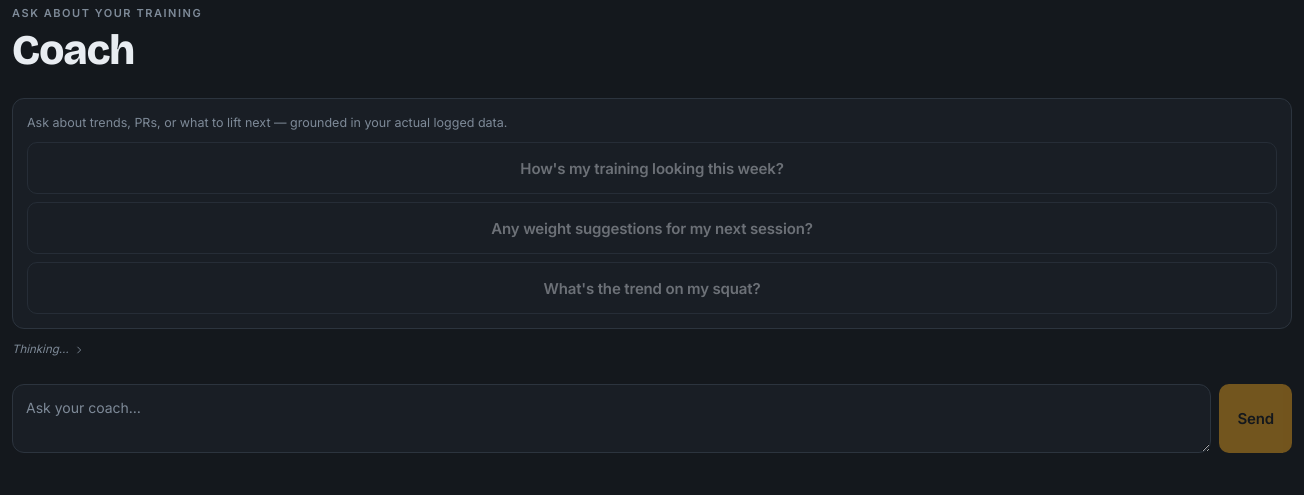
Test: CoachTab — generating blob › reveals thinking content when the disclosure is tapped
Click the button "Thinking…". click: (48, 350)
box: [12,339,84,360]
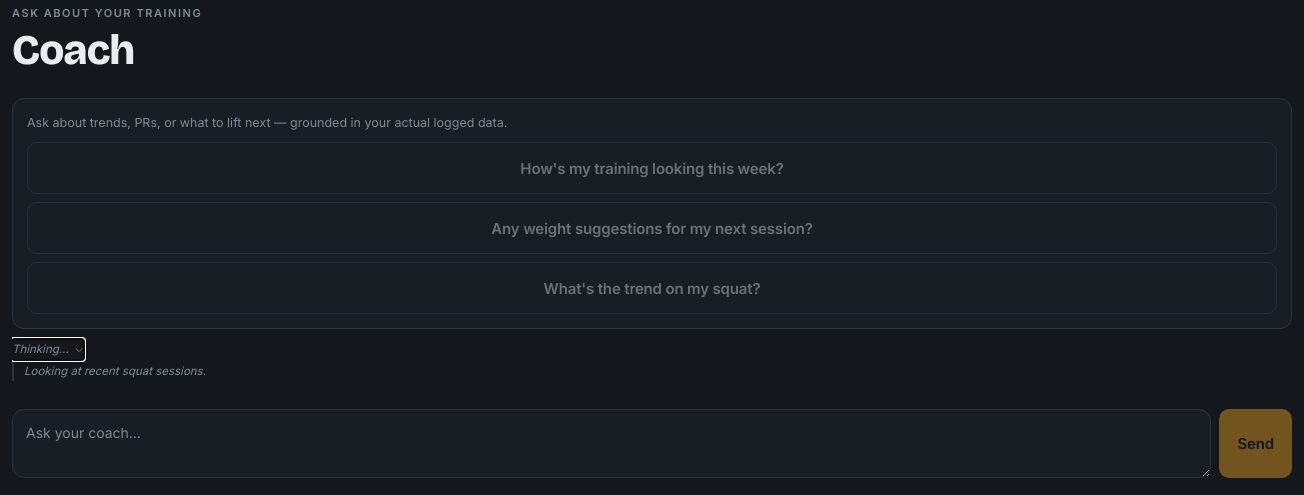
expect the text "Looking at recent squat sessions." is shown: met, box [12,362,206,381]
